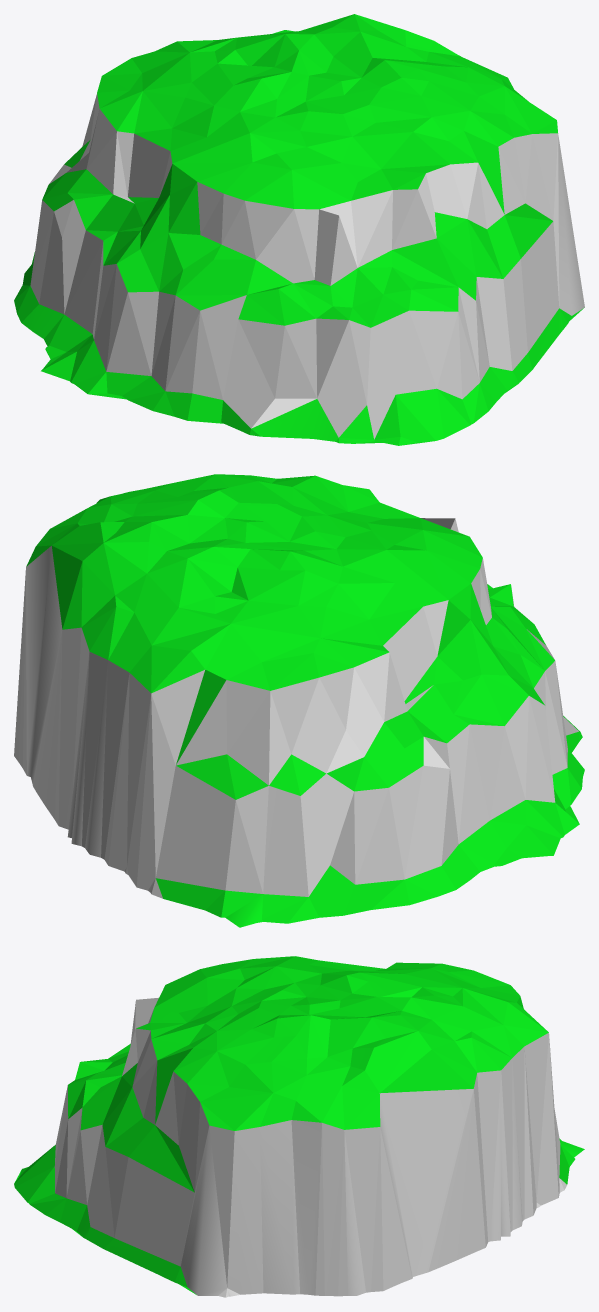
Rendered from SPW_Natures_Mount_03_Prime.fbx.
3 views of the same model, one above another, from view 1: azimuth 30°, elevation 25°; view 2: azimuth 150°, elevation 25°; view 3: azimuth 270°, elevation 25° (orthographic). The views are drawn at different scales.
Parts seen in each view (by area): view 1: SPW_Natures_Mount_03; view 2: SPW_Natures_Mount_03; view 3: SPW_Natures_Mount_03.
Boxes of the visible parts, x1,y1,x2,y2 form: SPW_Natures_Mount_03: (14,14,584,445); SPW_Natures_Mount_03: (14,474,584,927); SPW_Natures_Mount_03: (14,956,584,1297).
Bounding box in the file's own units: 54.79 × 26.1 × 61.45.
